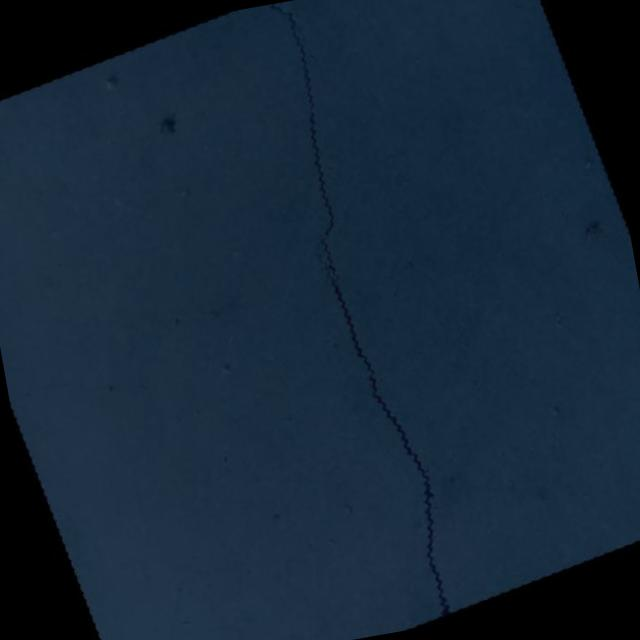crack: (211, 0, 524, 637)
